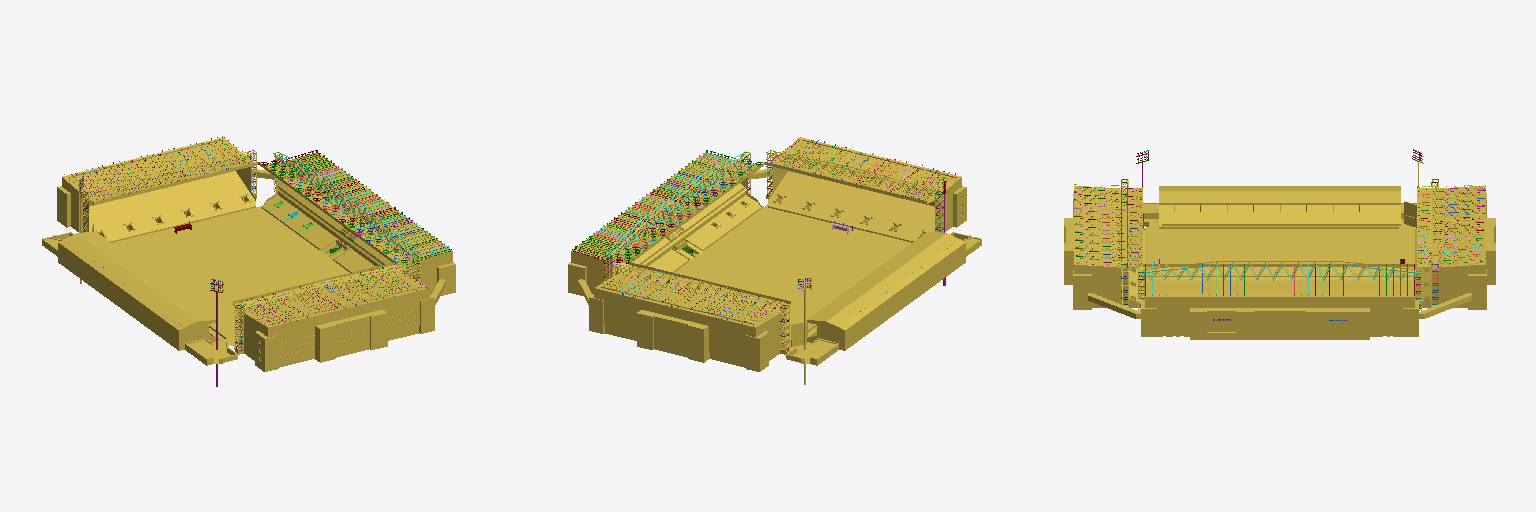
The model's file is footballstadium.obj.
3 views of the same model, side by side, from view 1: azimuth 30°, elevation 25°; view 2: azimuth 150°, elevation 25°; view 3: azimuth 270°, elevation 25° (orthographic).
Visible parts, largest first — view 1: Layer0_001, Component_12_001, Component_12_003; view 2: Layer0_001, Component_12_001; view 3: Layer0_001, Component_12_001, Component_12_003.
Part boxes in pixels (x1,y1,x2,y2): Layer0_001: (42,137,455,371); Component_12_001: (275,155,411,260); Component_12_003: (282,154,417,258); Layer0_001: (568,137,981,371); Component_12_001: (611,155,747,261); Layer0_001: (1064,179,1495,339); Component_12_001: (1144,261,1416,277); Component_12_003: (1144,264,1417,280).
Size of the model in its own units: 135913 by 50662 by 184942.